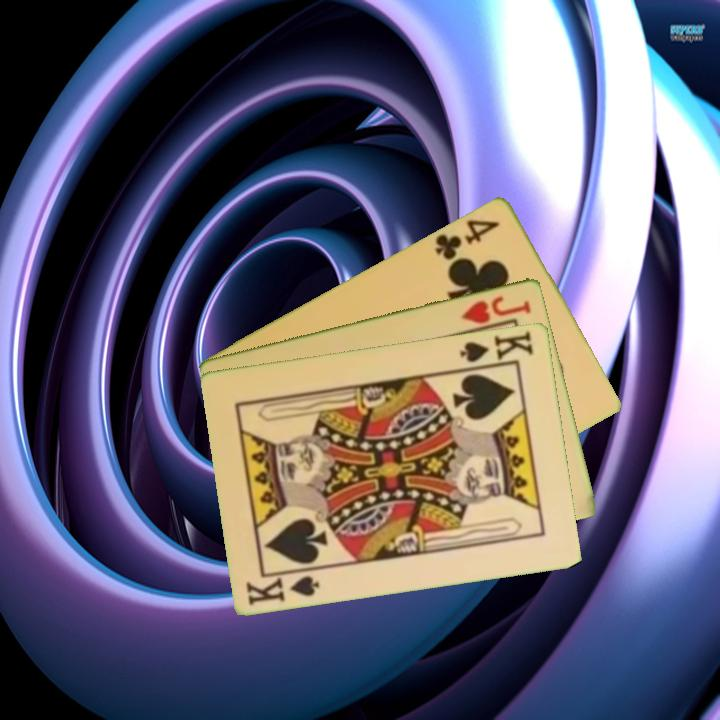4c: (431, 215, 503, 263)
Jh: (457, 292, 534, 327)
Ks: (457, 326, 537, 372), (242, 565, 324, 608)
